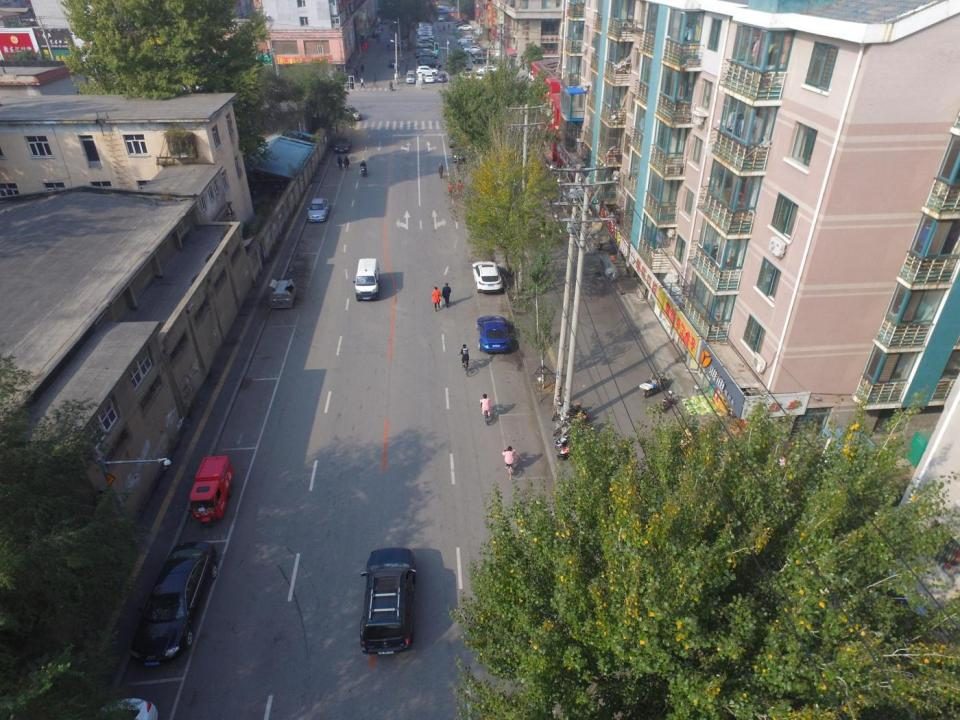car: (130, 540, 218, 668), (359, 547, 418, 656), (476, 315, 511, 356), (472, 260, 503, 295), (306, 197, 330, 223), (339, 104, 362, 122), (334, 136, 351, 153), (451, 146, 467, 164), (415, 65, 439, 76), (420, 59, 442, 69), (470, 47, 491, 57), (419, 59, 441, 68), (476, 65, 498, 73), (415, 40, 434, 48), (472, 56, 493, 63), (424, 73, 435, 83), (437, 72, 446, 83), (458, 25, 474, 31), (388, 58, 397, 68), (437, 15, 444, 22)
van: (352, 258, 380, 302), (405, 69, 416, 84)
